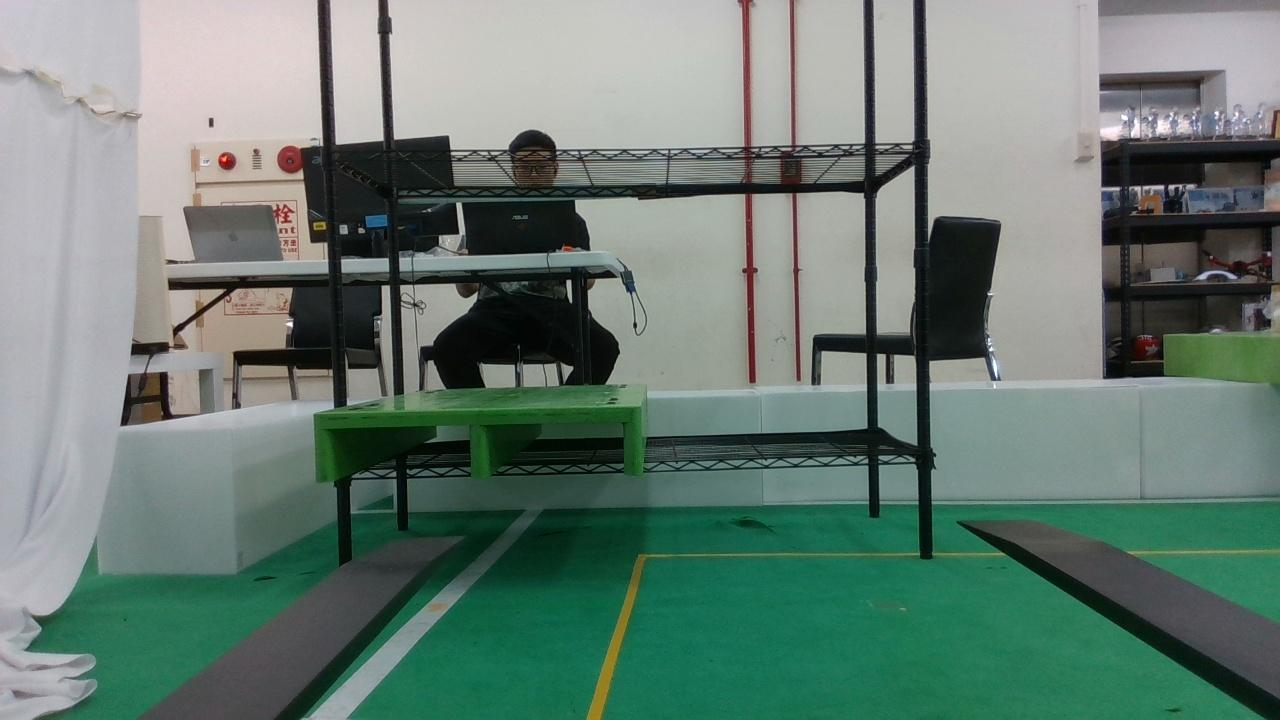Pallet: (311, 403, 646, 481)
